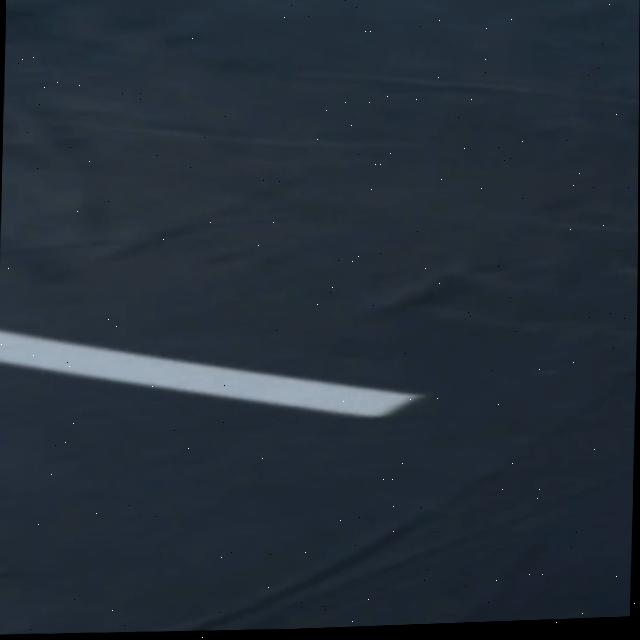center: (0, 328, 423, 415)
